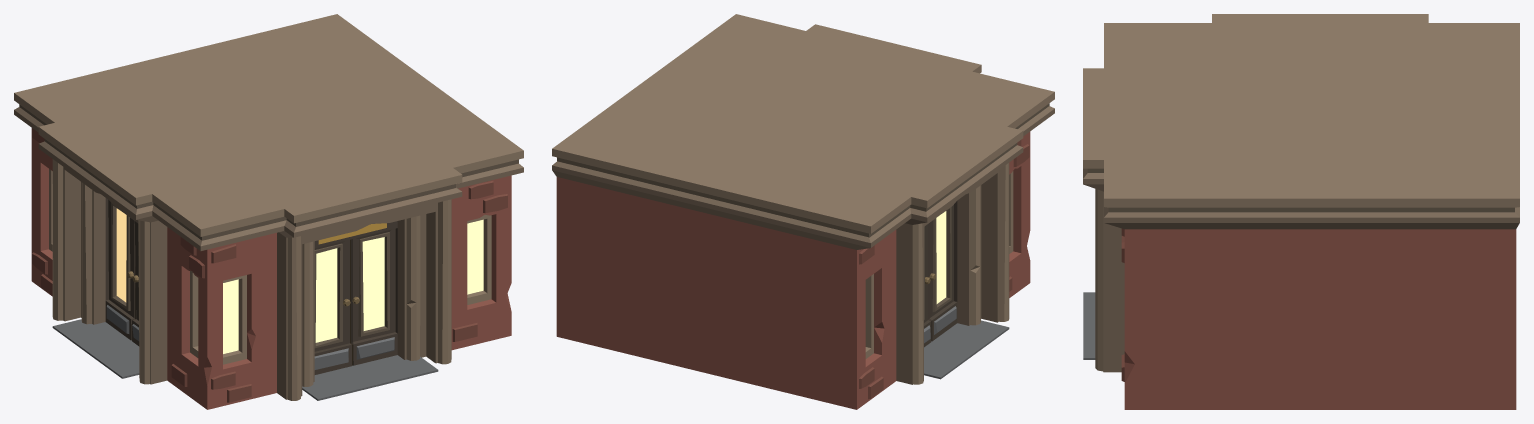
File: SM_Bld_Apartment_Door_Corner_01.fbx
The picture shows the model from 3 angles, left to right: view 1: azimuth 30°, elevation 25°; view 2: azimuth 150°, elevation 25°; view 3: azimuth 270°, elevation 25°; orthographic projection. The views are drawn at different scales.
Parts seen in each view (by area): view 1: SM_Bld_Apartment_Door_Corner_01; view 2: SM_Bld_Apartment_Door_Corner_01; view 3: SM_Bld_Apartment_Door_Corner_01.
Boxes of the visible parts, <box> form: SM_Bld_Apartment_Door_Corner_01: <box>14,14,523,409</box>; SM_Bld_Apartment_Door_Corner_01: <box>552,14,1054,409</box>; SM_Bld_Apartment_Door_Corner_01: <box>1083,14,1519,409</box>.
Bounding box in the file's own units: 558 × 300 × 558.
